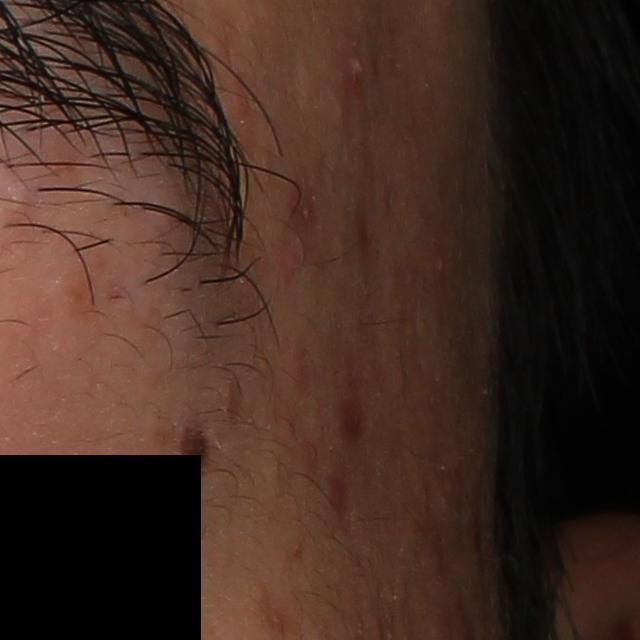nevus: (175, 424, 215, 479)
